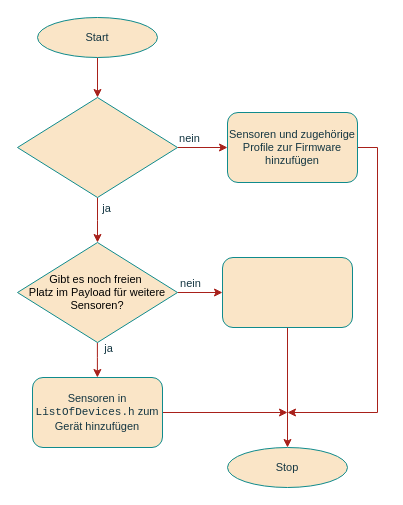
The diagram is 403 pixels wide and 505 high, and some of its shapes have lost their labels. The shapes that lost their labels are listed below. From the top down, each one's centre as x and y in pixels, then its label:
(97,147): Sind alle gewünschten Sensoren bereits in der Firmware Konfiguriert?
(287,292): Neues Endgerät muss konfiguriert und eingebunden werden
